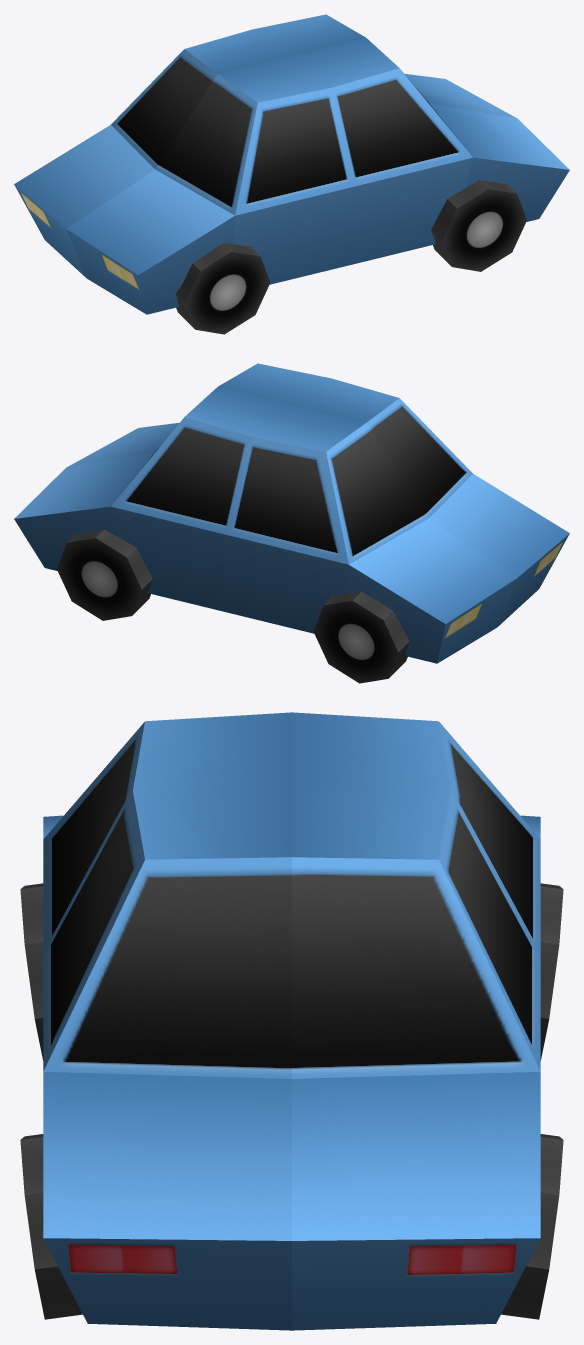
The model's file is car3.glb.
The picture shows the model from 3 angles, top to bottom: view 1: azimuth 30°, elevation 25°; view 2: azimuth 150°, elevation 25°; view 3: azimuth 270°, elevation 25°; orthographic projection. The views are drawn at different scales.
Visible parts, largest first — view 1: Car0; view 2: Car0; view 3: Car0.
Boxes of the visible parts, <box> form: Car0: <box>14,14,569,334</box>; Car0: <box>14,363,569,683</box>; Car0: <box>20,712,563,1330</box>.
Bounding box in the file's own units: 4.19 × 1.8 × 2.18.
1 material, 1 textured.
